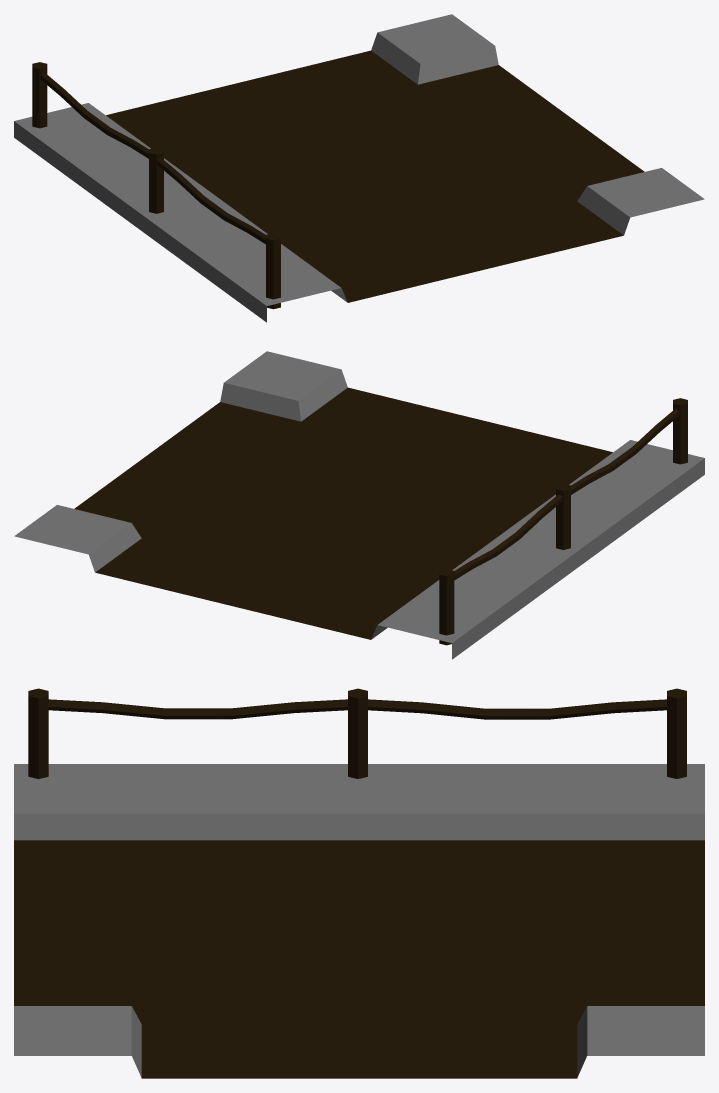
Rendered from bridge_threeway_mesh.fbx.
3 views of the same model, one above another, from view 1: azimuth 30°, elevation 25°; view 2: azimuth 150°, elevation 25°; view 3: azimuth 270°, elevation 25° (orthographic). The views are drawn at different scales.
Visible parts, largest first — view 1: bridge_threeway_mesh; view 2: bridge_threeway_mesh; view 3: bridge_threeway_mesh.
Boxes of the visible parts, <box> form: bridge_threeway_mesh: <box>14,14,704,322</box>; bridge_threeway_mesh: <box>14,351,704,659</box>; bridge_threeway_mesh: <box>14,688,704,1078</box>.
Size of the model in its own units: 1 by 0.1651 by 1.
